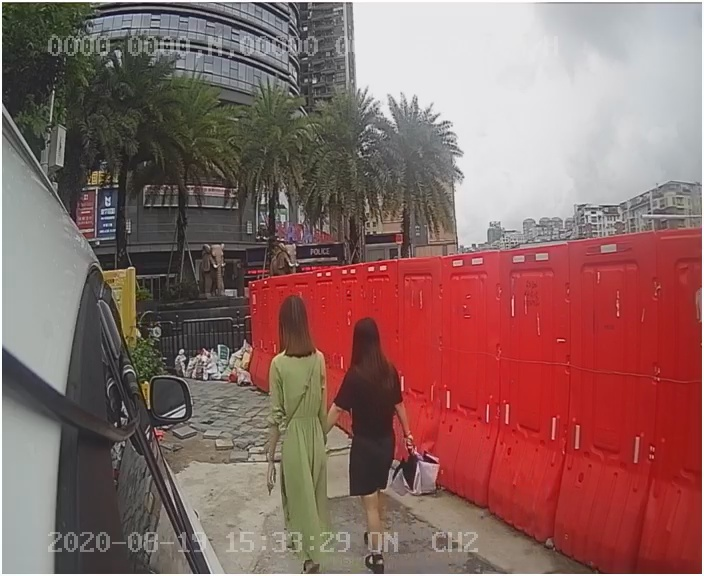person: (323, 313, 445, 528), (245, 289, 343, 527)
